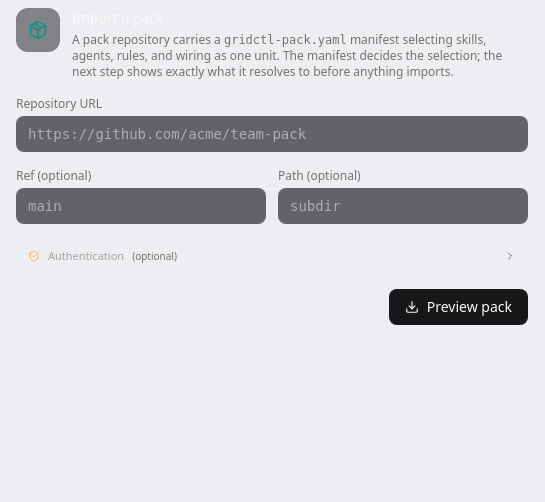
Test: PackImportWizard — credentials › auto-opens with the not-found wording on a 404
The image size is (545, 502).
Step 1. Type "https://github.com/acme/private-pack" into the field named "pack repository url" → (272, 134), box [16,116,528,152]
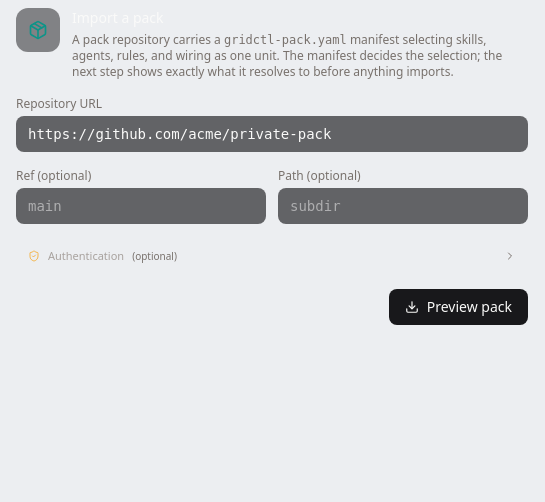
Step 2. Click the button "Preview pack" → (458, 306), box [389,288,528,324]
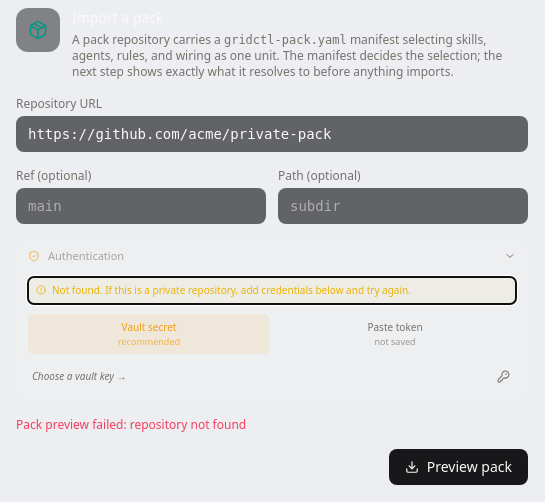
Result: the text "If this is a private repository" is shown at [52,282,411,296]
